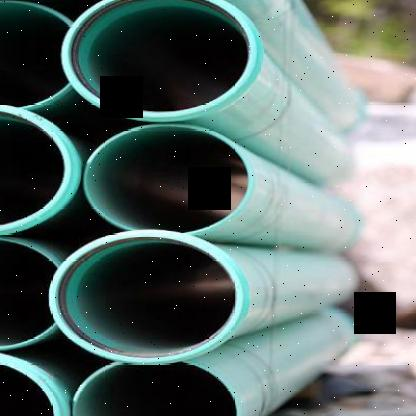pipe: (49, 230, 247, 366), (61, 0, 260, 121), (83, 124, 255, 236), (0, 102, 74, 233), (72, 360, 242, 416), (0, 0, 75, 110), (0, 236, 59, 351), (0, 350, 66, 416)
